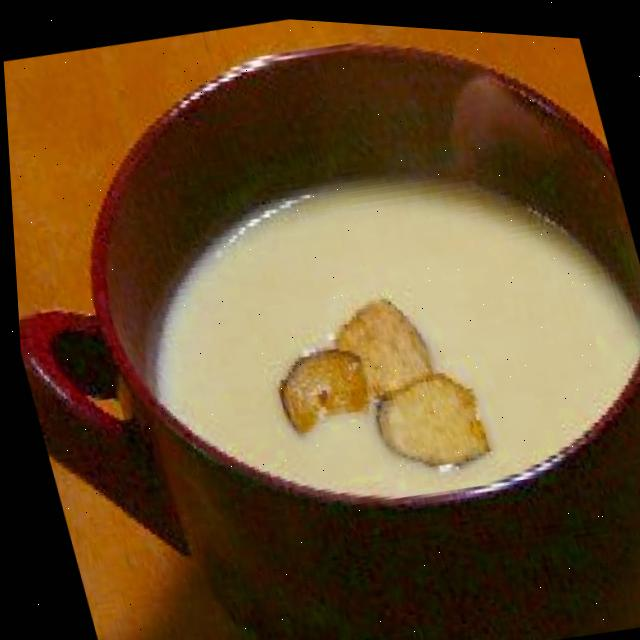汤锅炖物: (15, 1, 640, 640)
